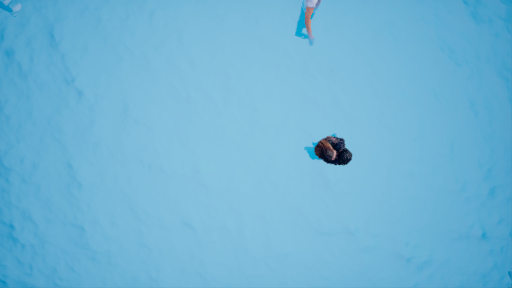person: (307, 132, 358, 169), (293, 1, 325, 51)
